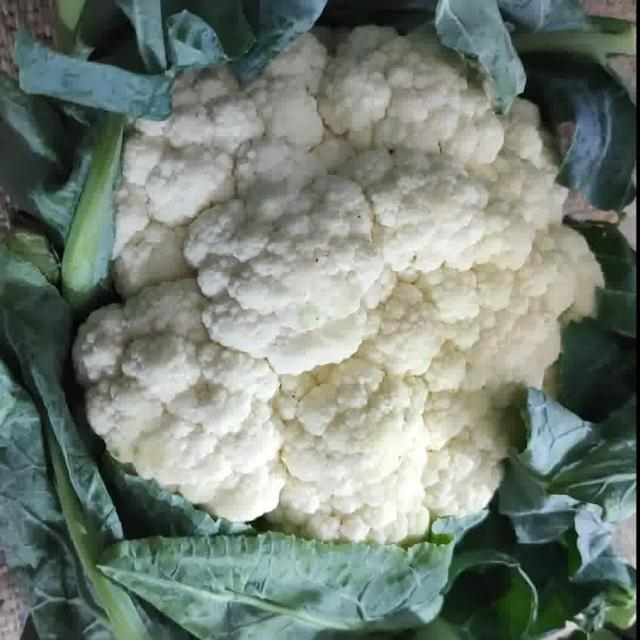Onion: (72, 26, 604, 541)
